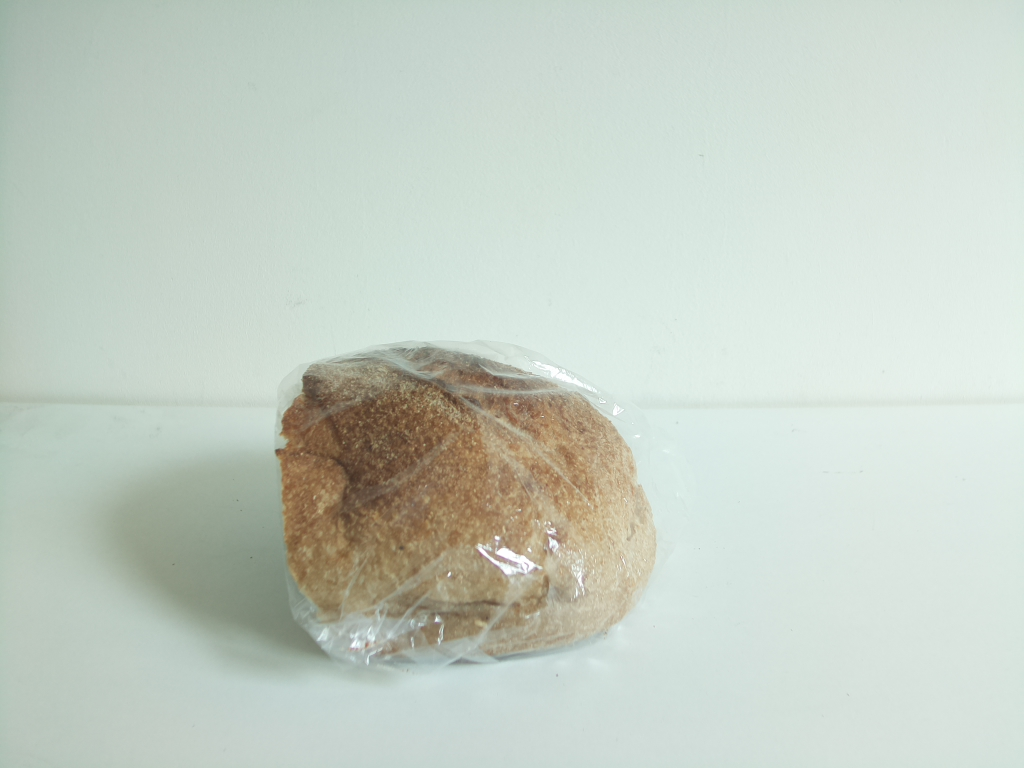bread: (273, 333, 652, 673)
